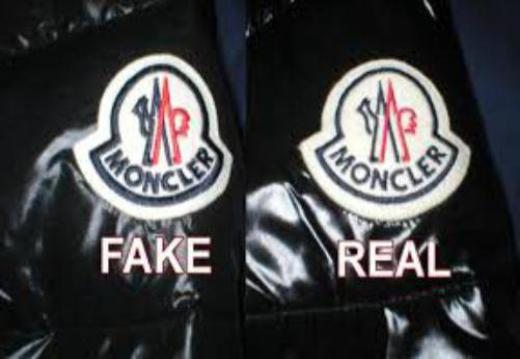MONCLER: (354, 78, 423, 173), (129, 75, 192, 166)
